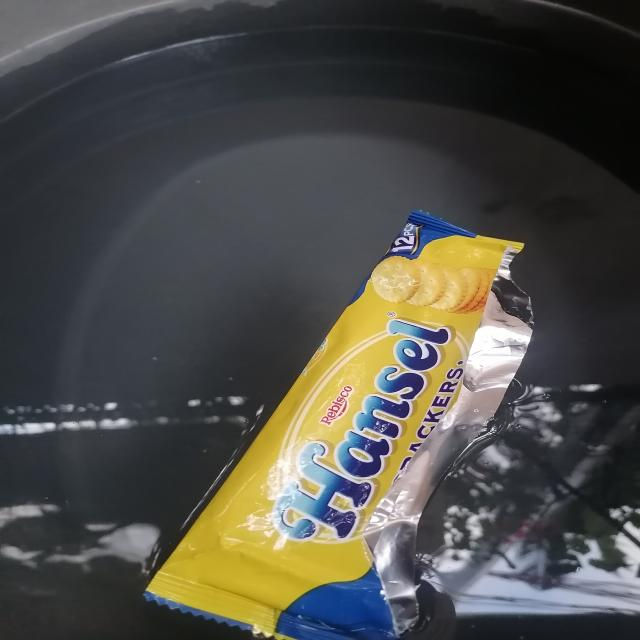Plastic Wrapper: (147, 211, 533, 640)
